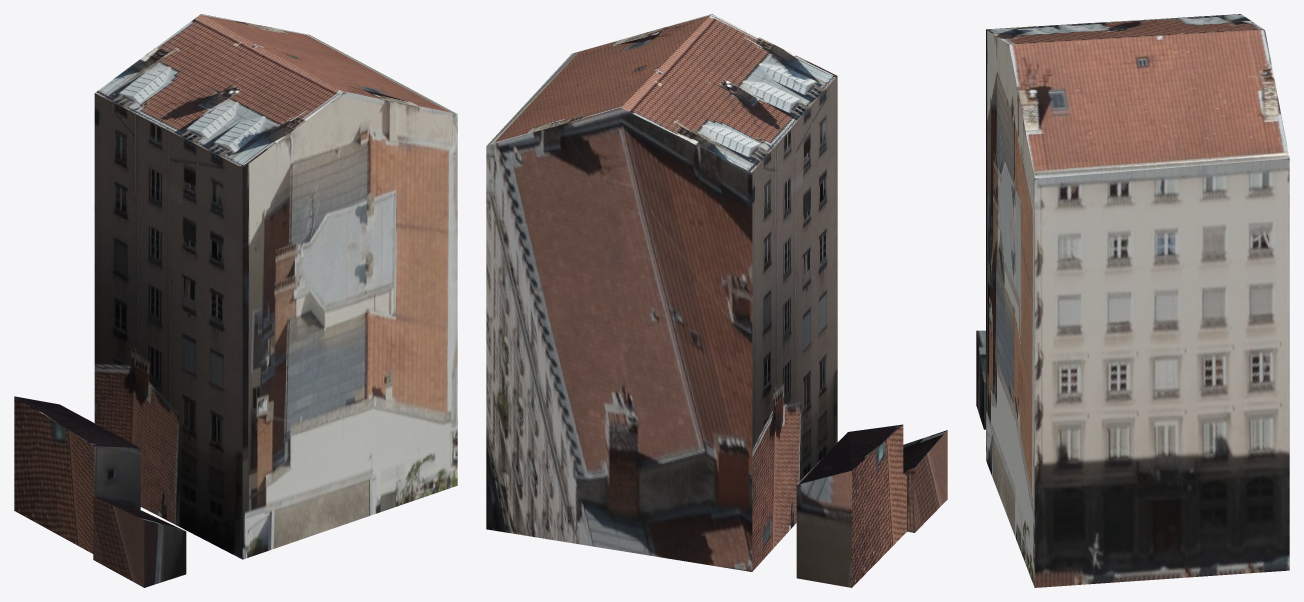
The picture shows the model from 3 angles, left to right: view 1: azimuth 30°, elevation 25°; view 2: azimuth 150°, elevation 25°; view 3: azimuth 270°, elevation 25°; orthographic projection. The views are drawn at different scales.
Parts seen in each view (by area): view 1: Z_UP; view 2: Z_UP; view 3: Z_UP.
Boxes of the visible parts, bbox=[...] form: Z_UP: bbox=[14, 14, 457, 587]; Z_UP: bbox=[486, 14, 947, 587]; Z_UP: bbox=[976, 14, 1289, 587].
Size of the model in its own units: 24.22 by 27.91 by 16.65.
2 materials, 1 textured.
